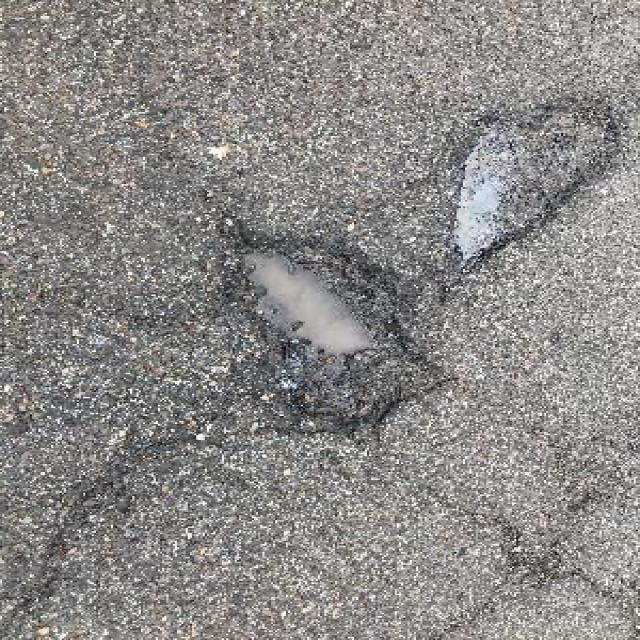pothole: (175, 186, 424, 432), (443, 81, 627, 272)
